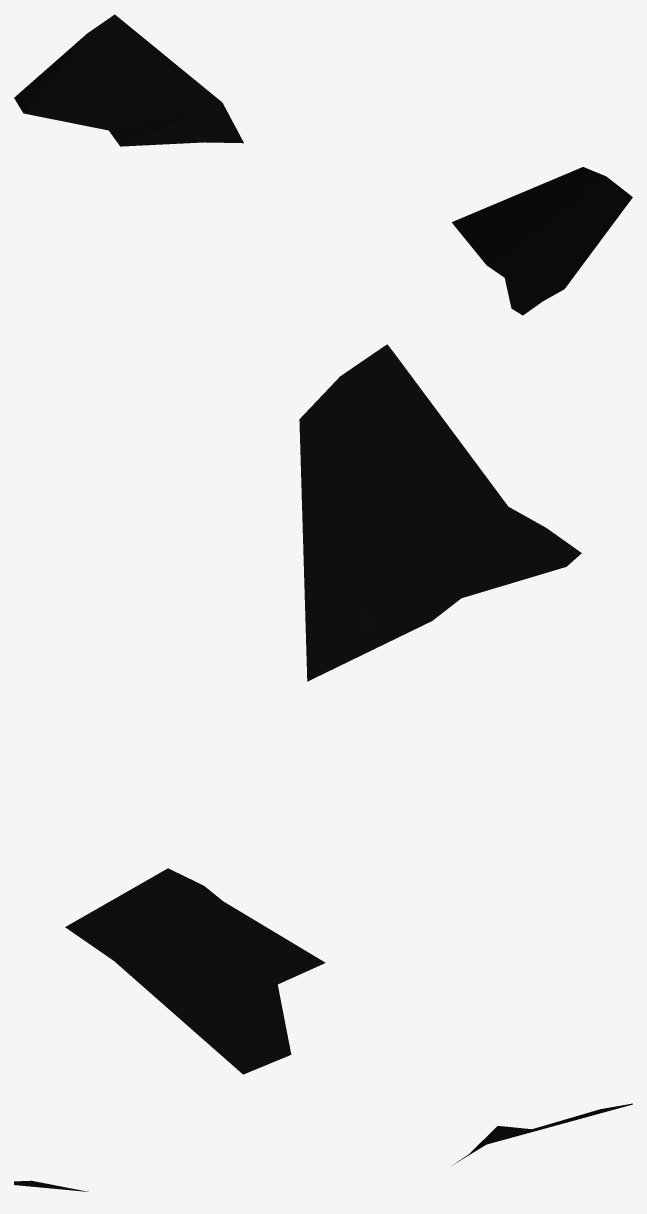
The picture shows the model from 3 angles, top to bottom: view 1: azimuth 30°, elevation 25°; view 2: azimuth 150°, elevation 25°; view 3: azimuth 270°, elevation 25°; orthographic projection. The views are drawn at different scales.
Bounding box in the file's own units: 10.79 × 3.45 × 23.6.
1 material, 1 textured.
